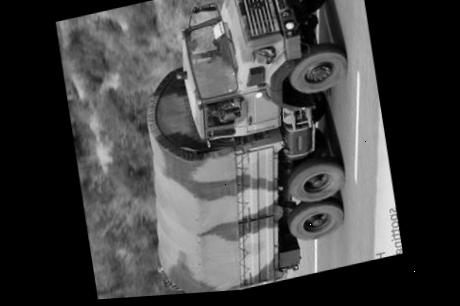truck: (119, 0, 371, 298)
